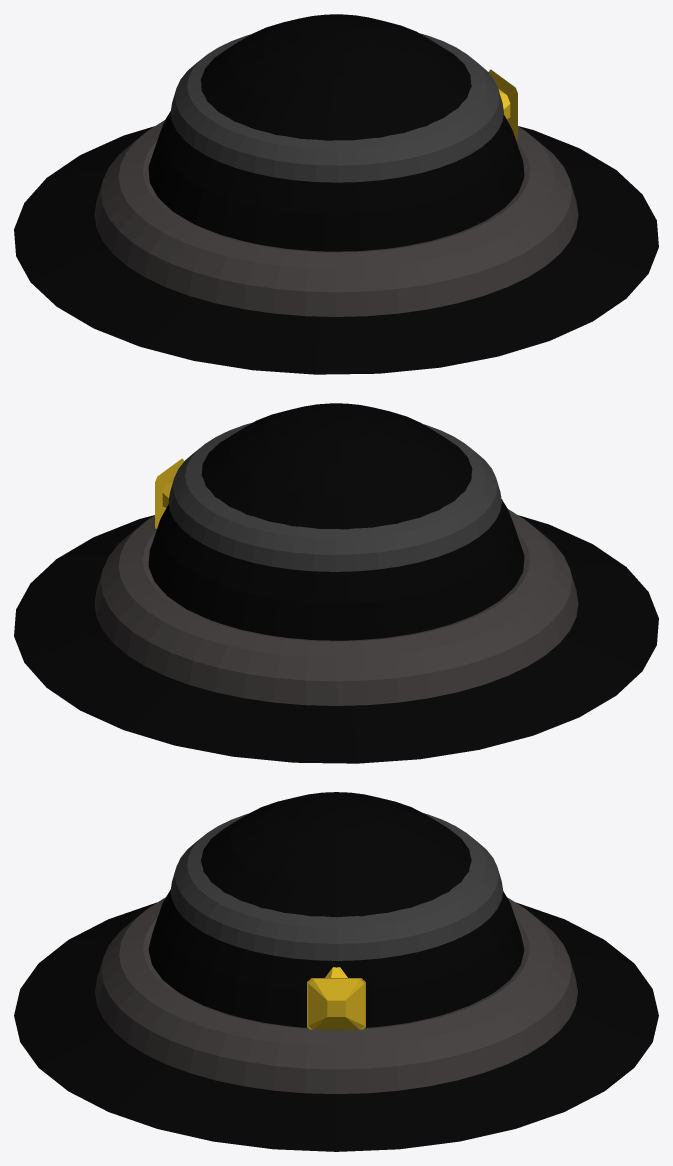
The model's file is light_hat.fbx.
The picture shows the model from 3 angles, top to bottom: view 1: azimuth 30°, elevation 25°; view 2: azimuth 150°, elevation 25°; view 3: azimuth 270°, elevation 25°; orthographic projection.
Parts seen in each view (by area): view 1: Sphere, Torus, Torus.001, Cube; view 2: Sphere, Torus, Torus.001, Cube; view 3: Sphere, Torus, Torus.001, Cube.
Part boxes in pixels (<box>): Sphere: <box>14,14,658,374</box>; Torus: <box>94,120,578,316</box>; Torus.001: <box>170,33,503,182</box>; Cube: <box>488,69,517,139</box>; Sphere: <box>14,403,658,763</box>; Torus: <box>94,509,578,705</box>; Torus.001: <box>168,422,501,571</box>; Cube: <box>155,458,184,528</box>; Sphere: <box>14,792,658,1151</box>; Torus: <box>95,897,577,1093</box>; Torus.001: <box>170,813,503,960</box>; Cube: <box>307,967,365,1029</box>.
Size of the model in its own units: 336 by 118 by 336.
